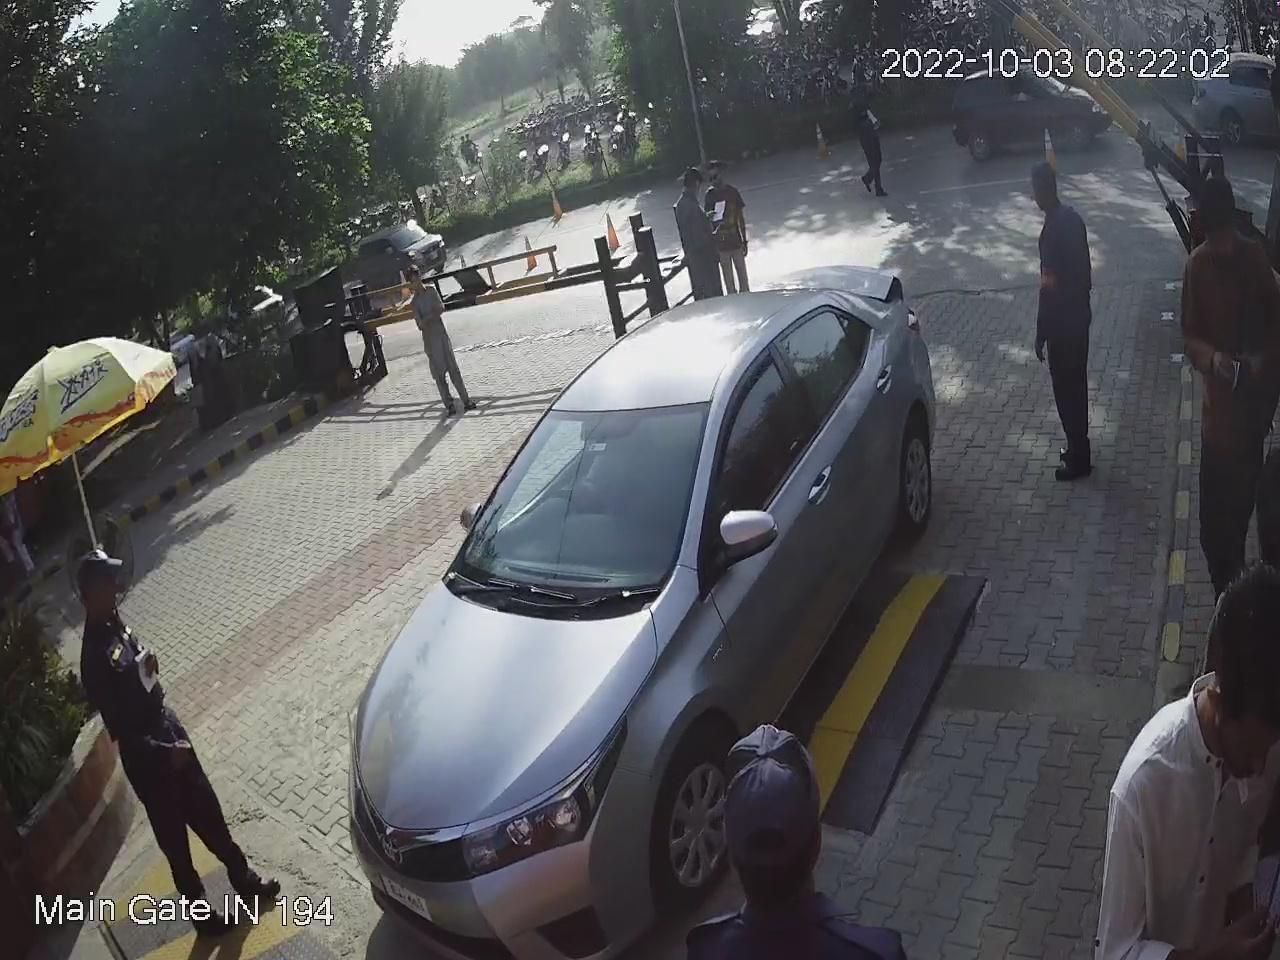windshield: (440, 390, 719, 602)
